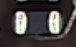COMP: (8, 9, 64, 37)
STAN: (31, 33, 69, 43), (63, 9, 76, 36)
